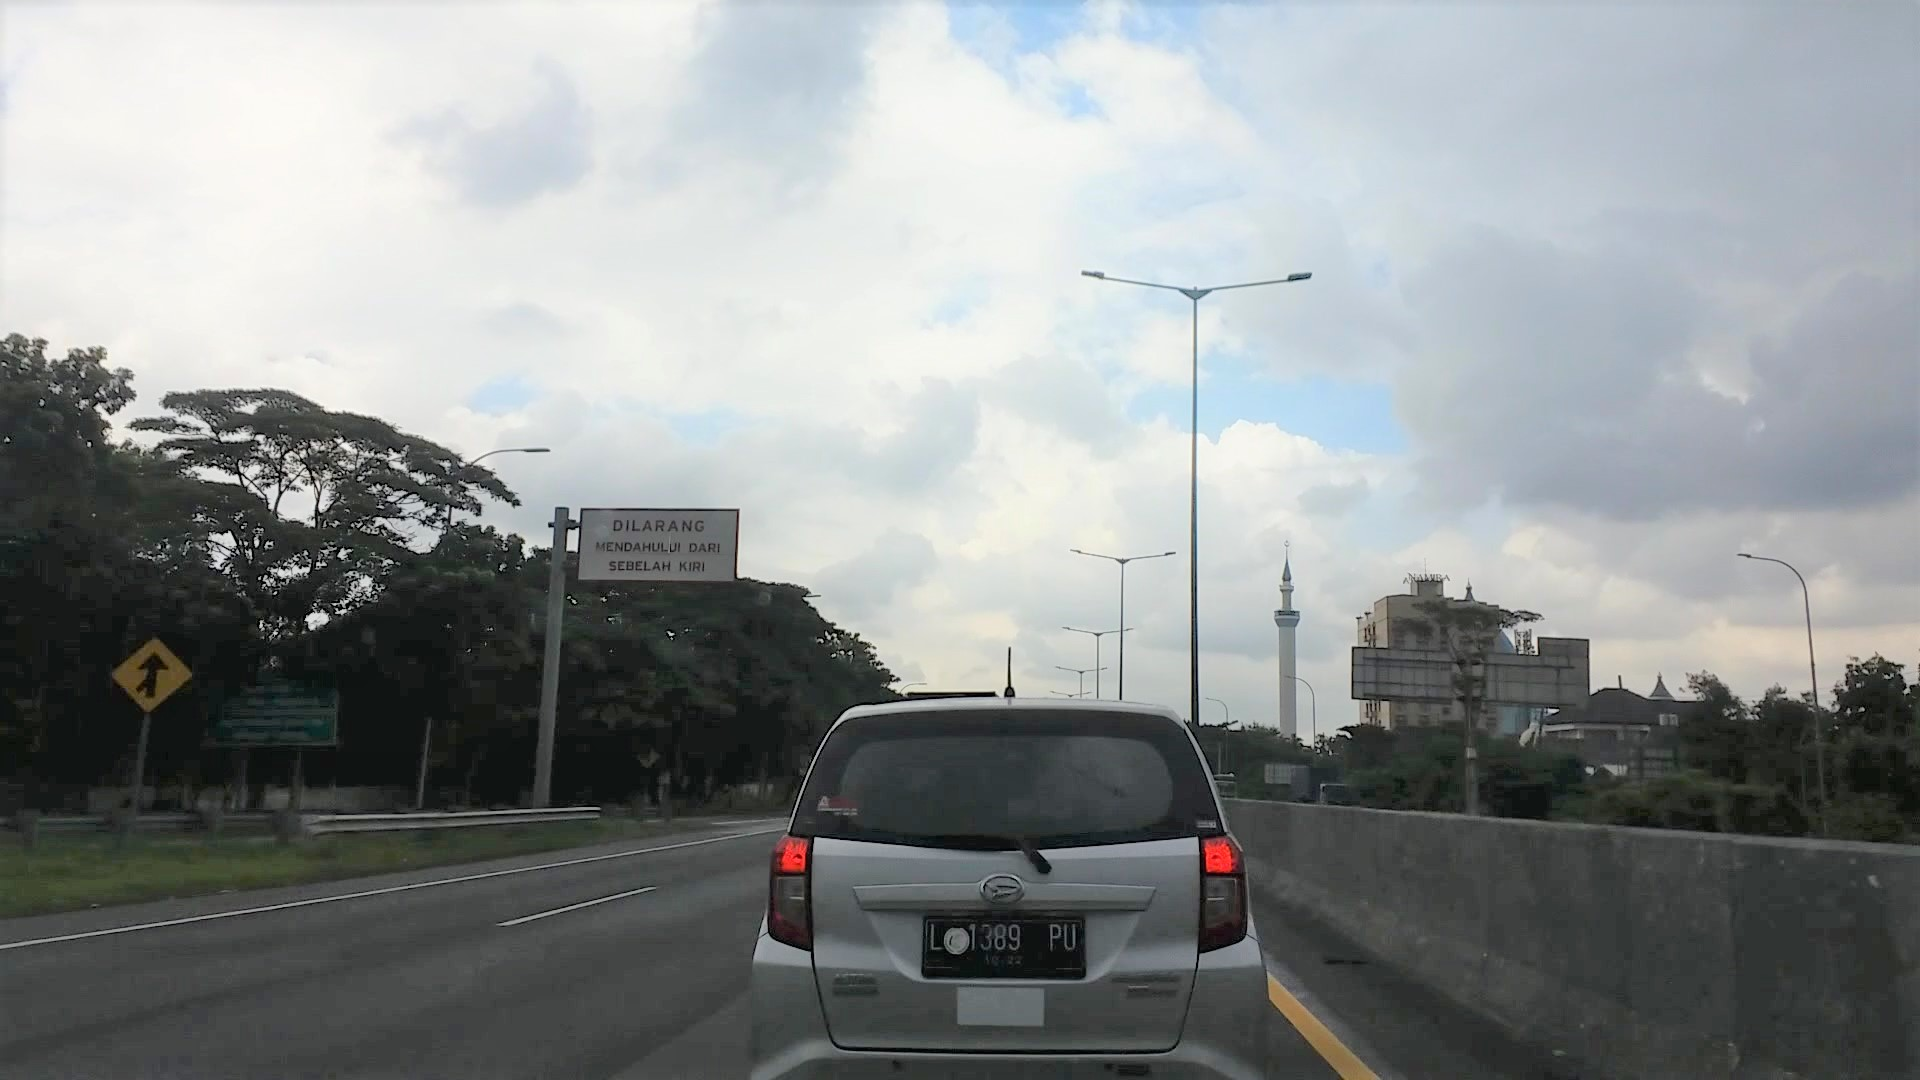plate_positive: (922, 915, 1087, 978)
